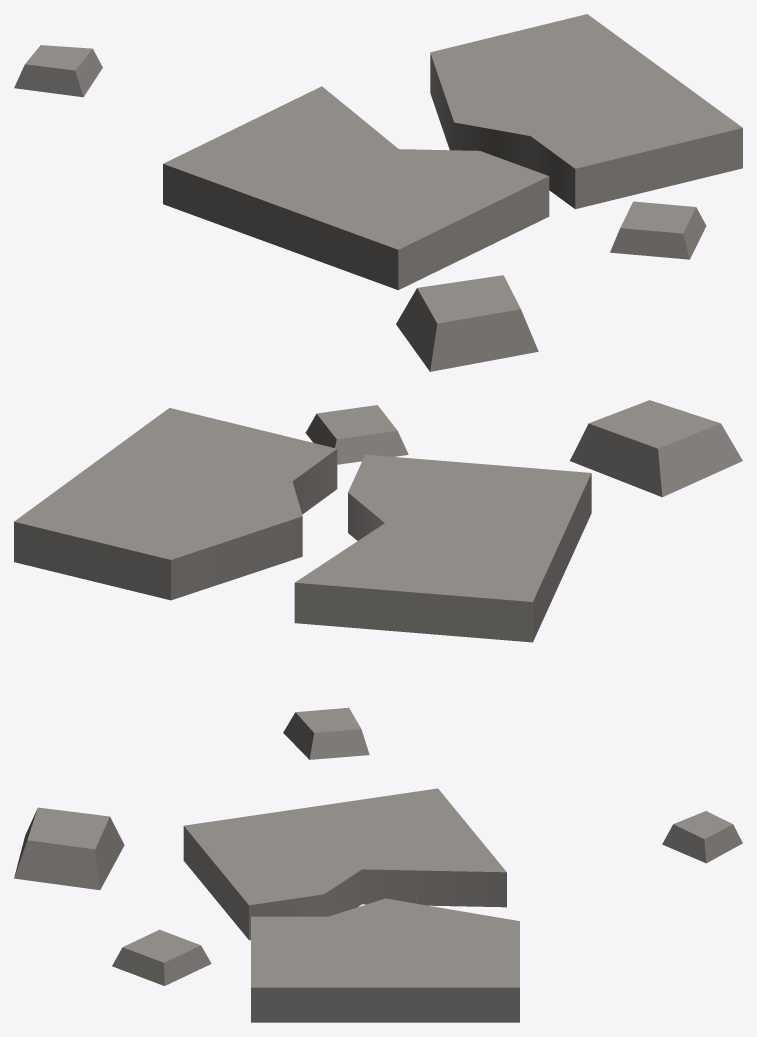
File: SD_Prop_Rubble_03.fbx
3 renders of one model, top to bottom at view 1: azimuth 30°, elevation 25°; view 2: azimuth 150°, elevation 25°; view 3: azimuth 270°, elevation 25°, orthographic. The views are drawn at different scales.
Parts seen in each view (by area): view 1: SD_Prop_Rubble_03; view 2: SD_Prop_Rubble_03; view 3: SD_Prop_Rubble_03.
Part boxes in pixels (<box>): SD_Prop_Rubble_03: <box>14,14,742,371</box>; SD_Prop_Rubble_03: <box>14,400,742,759</box>; SD_Prop_Rubble_03: <box>14,788,742,1022</box>.
Size of the model in its own units: 1.75 by 0.1434 by 2.71.
